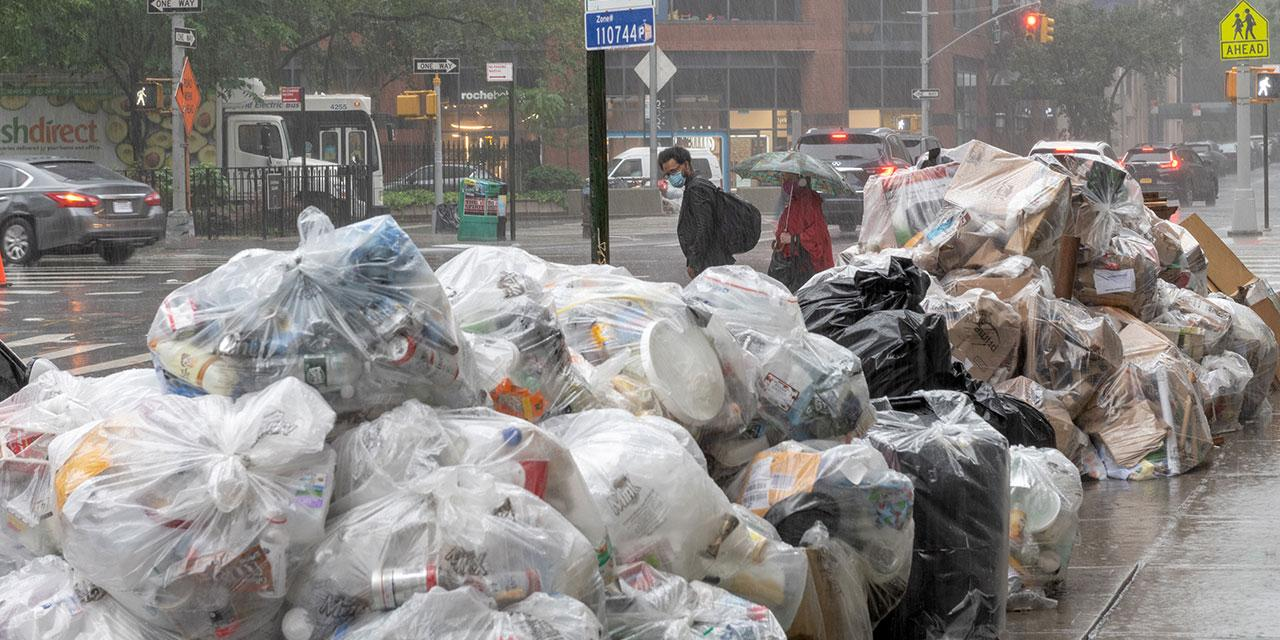road: (0, 242, 250, 378), (610, 215, 688, 282), (515, 220, 590, 264), (404, 225, 470, 268), (738, 245, 768, 270)
trash: (48, 378, 332, 638), (148, 208, 480, 416), (282, 465, 602, 638), (868, 390, 1010, 640), (0, 370, 160, 574), (738, 440, 915, 624), (685, 265, 870, 439), (0, 370, 160, 569), (545, 410, 732, 580), (550, 265, 725, 430), (438, 248, 600, 421), (438, 408, 608, 554), (1060, 152, 1160, 312), (330, 400, 458, 514), (335, 585, 600, 640), (0, 555, 170, 640), (945, 140, 1068, 255), (605, 562, 785, 640), (705, 505, 808, 629), (1025, 295, 1122, 418), (838, 310, 968, 398), (798, 255, 930, 340), (920, 282, 1022, 384), (1010, 445, 1082, 589), (1132, 352, 1212, 475), (1078, 360, 1168, 468), (1208, 292, 1278, 420), (860, 162, 958, 252), (802, 522, 872, 640), (995, 375, 1075, 456), (682, 580, 785, 640), (1150, 280, 1232, 355), (965, 379, 1055, 446), (1180, 215, 1255, 295), (705, 315, 760, 421), (580, 350, 665, 415), (490, 592, 602, 640), (940, 255, 1051, 300), (1195, 350, 1252, 435), (1025, 180, 1070, 274), (1152, 220, 1208, 295), (1105, 308, 1180, 359), (640, 415, 708, 470), (905, 208, 970, 248), (938, 232, 990, 271), (1082, 205, 1120, 258), (1055, 235, 1080, 299), (965, 238, 1008, 268), (1092, 268, 1135, 295)
